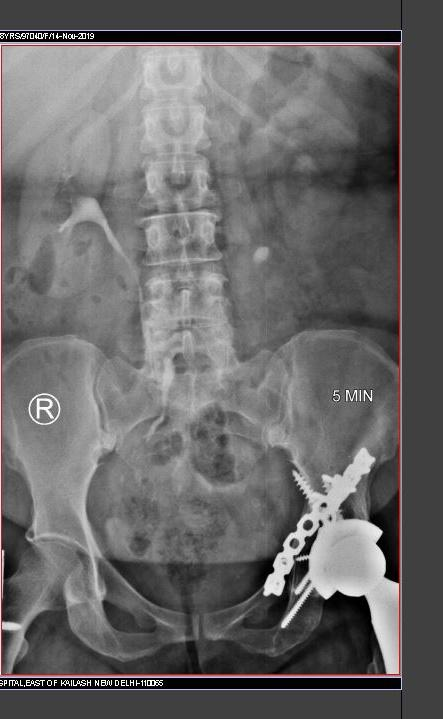bladder: (98, 505, 271, 611)
right kidney: (15, 105, 118, 305)
vertebrae: (137, 102, 214, 153)
